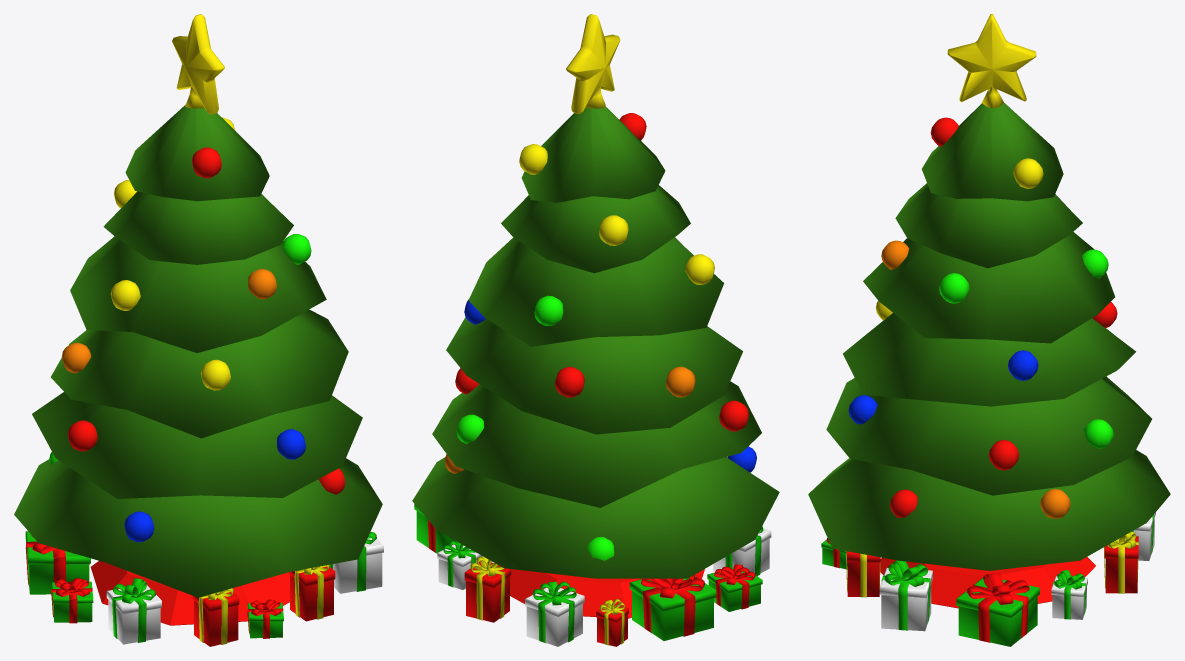
Rendered from christmastree.fbx.
The picture shows the model from 3 angles, left to right: view 1: azimuth 30°, elevation 25°; view 2: azimuth 150°, elevation 25°; view 3: azimuth 270°, elevation 25°; orthographic projection.
Visible parts, largest first — view 1: christmas tree; view 2: christmas tree; view 3: christmas tree.
Boxes of the visible parts, x1,y1,x2,y2 form: christmas tree: (14,14,383,646); christmas tree: (412,14,779,646); christmas tree: (808,14,1170,646).
Size of the model in its own units: 472 by 768 by 455.
4 materials, 4 textured.
